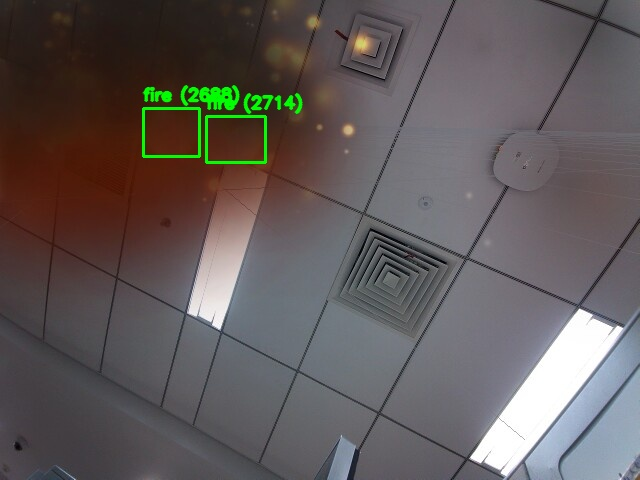fire: (206, 116, 265, 162), (143, 108, 199, 156)
